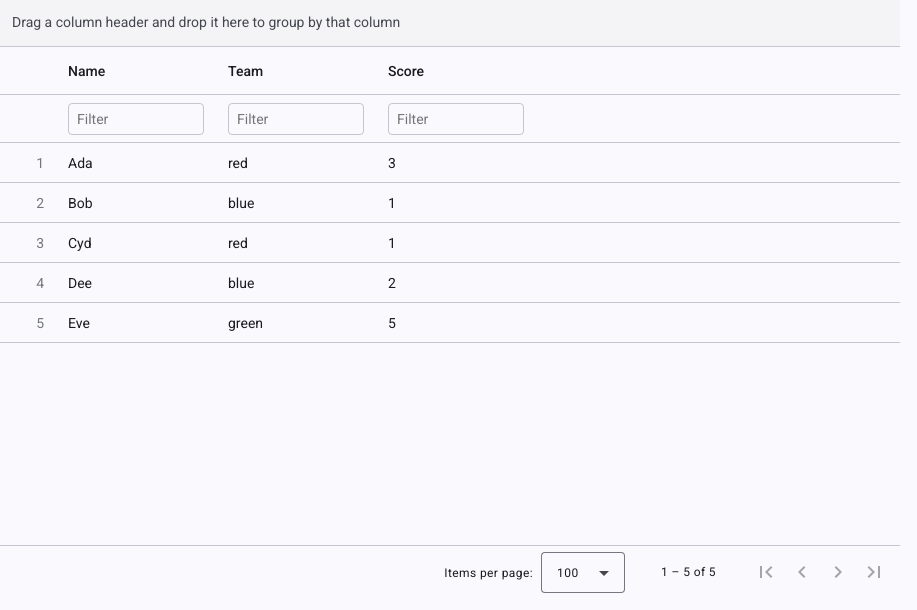
Test case: DataGridComponent › sorting › goes from ascending to descending to unsorted
Click the column heading with class "grid-header" showing "Score": (456,71) [376, 47, 536, 95]
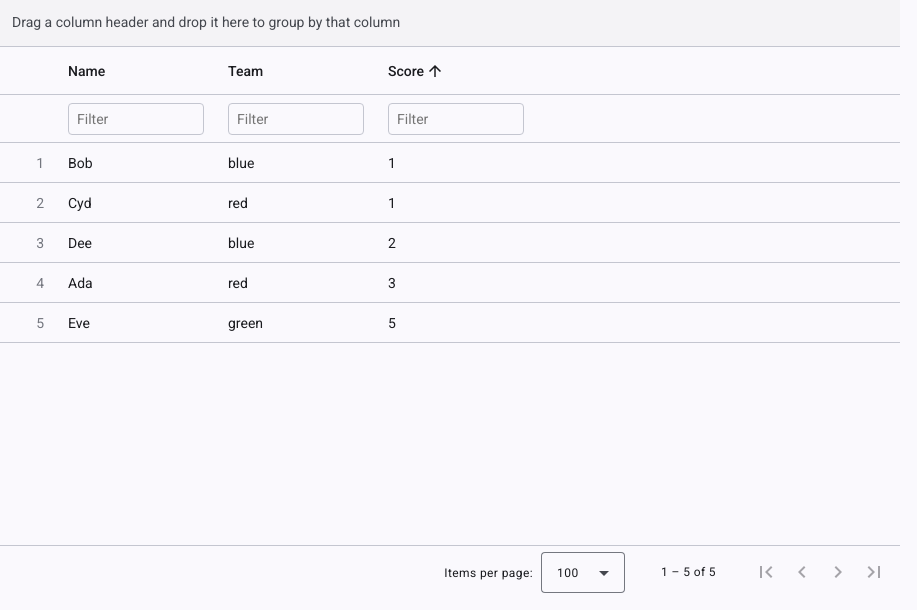
Expected: the column heading with class "grid-header" has attribute aria-sort="ascending"
Click the column heading with class "grid-header" showing "Score": (456,71) [376, 47, 536, 95]
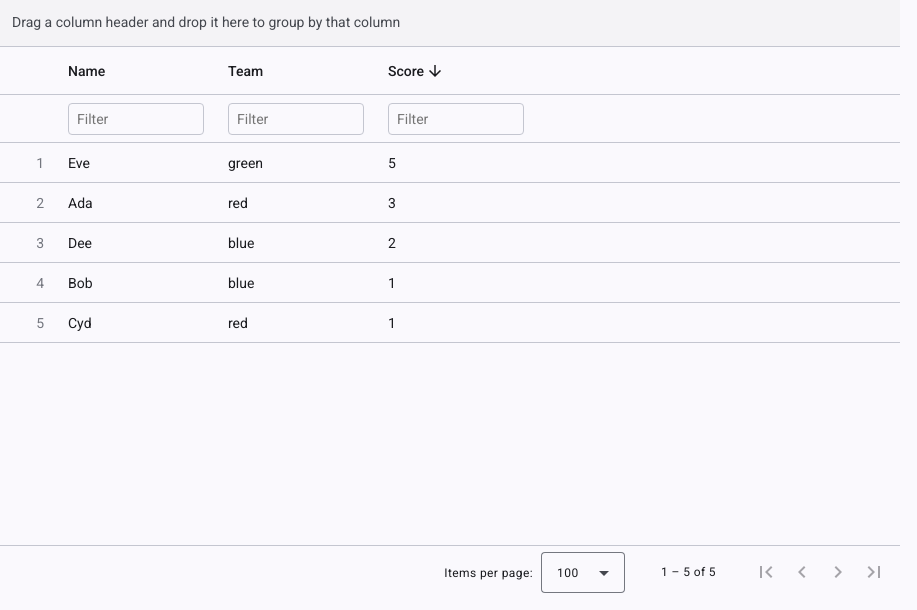
Click the column heading with class "grid-header" showing "Score": (456,71) [376, 47, 536, 95]
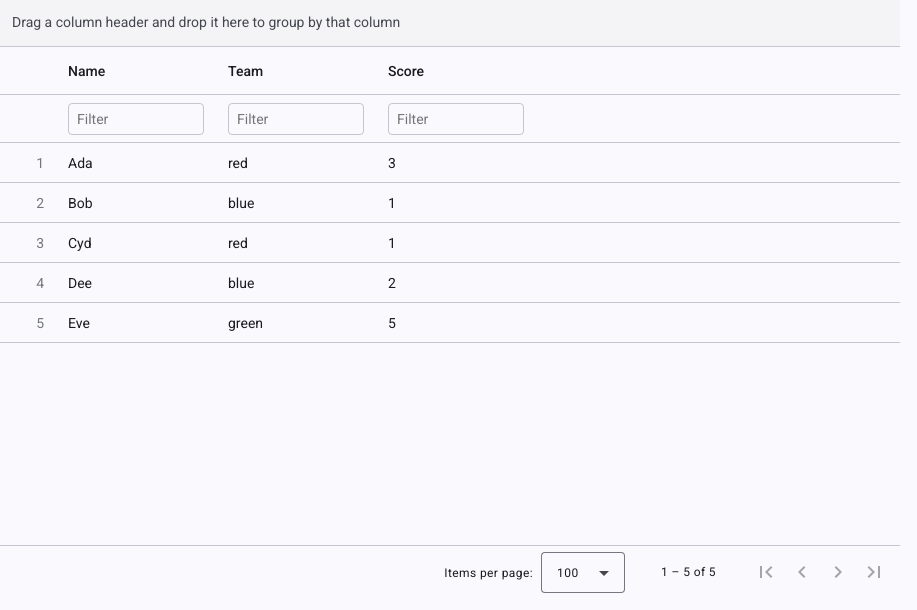
Expected: the picture with class "sort" is gone
